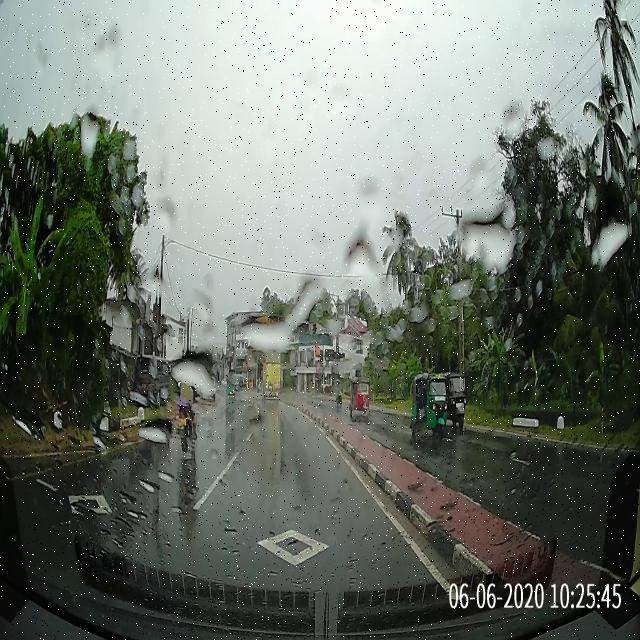diamond: (166, 522, 441, 572)
